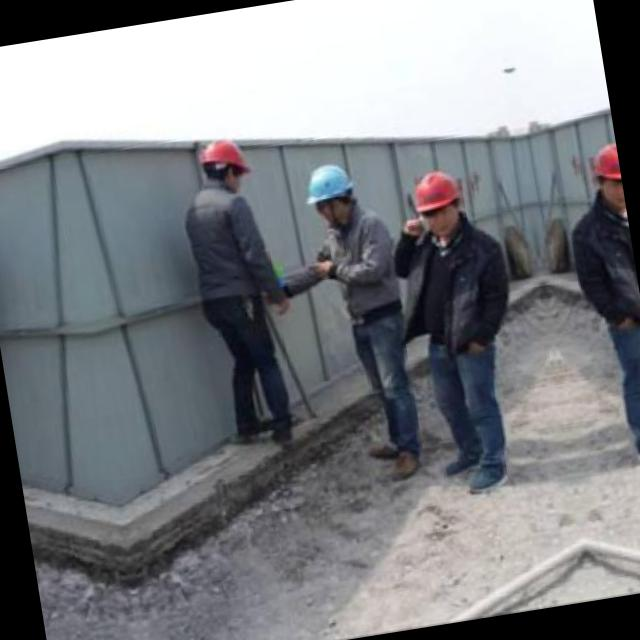helmet: (402, 162, 470, 238), (297, 155, 358, 233), (192, 132, 252, 200), (584, 138, 624, 212)
